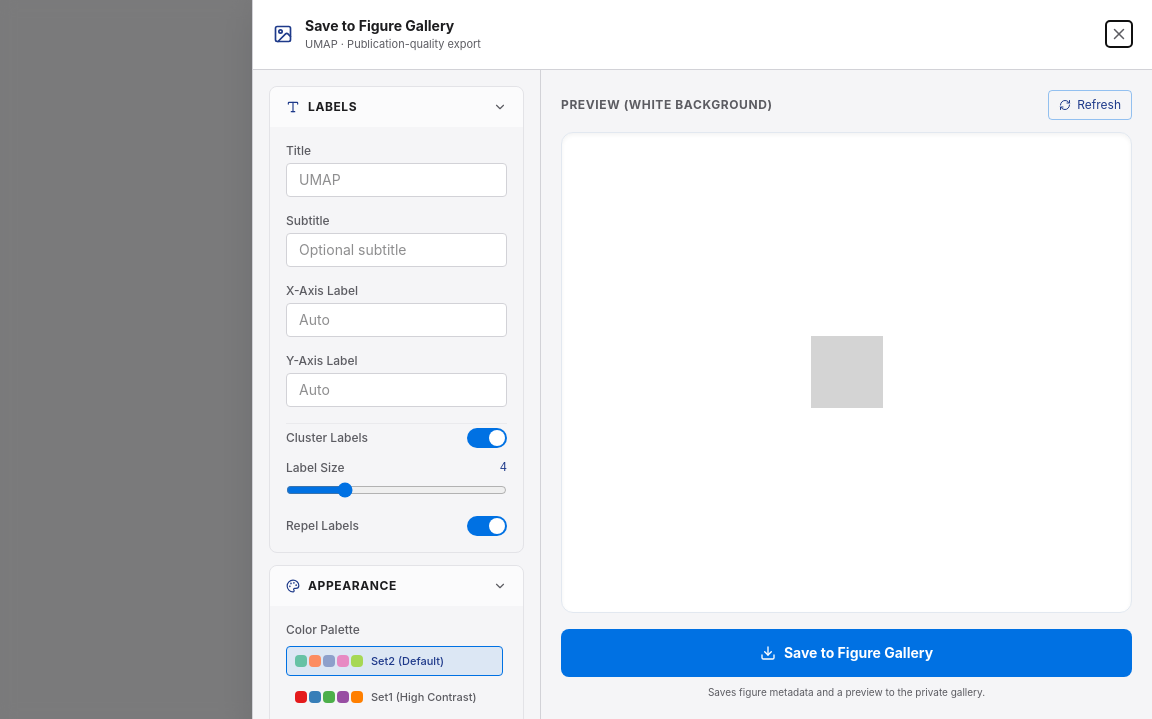
Test: FigureSavePanel component › stores and displays only the filename when the export response contains a full path
Step 1. Click the button "Save to Figure Gallery" → click(846, 653), box [561,629,1132,677]
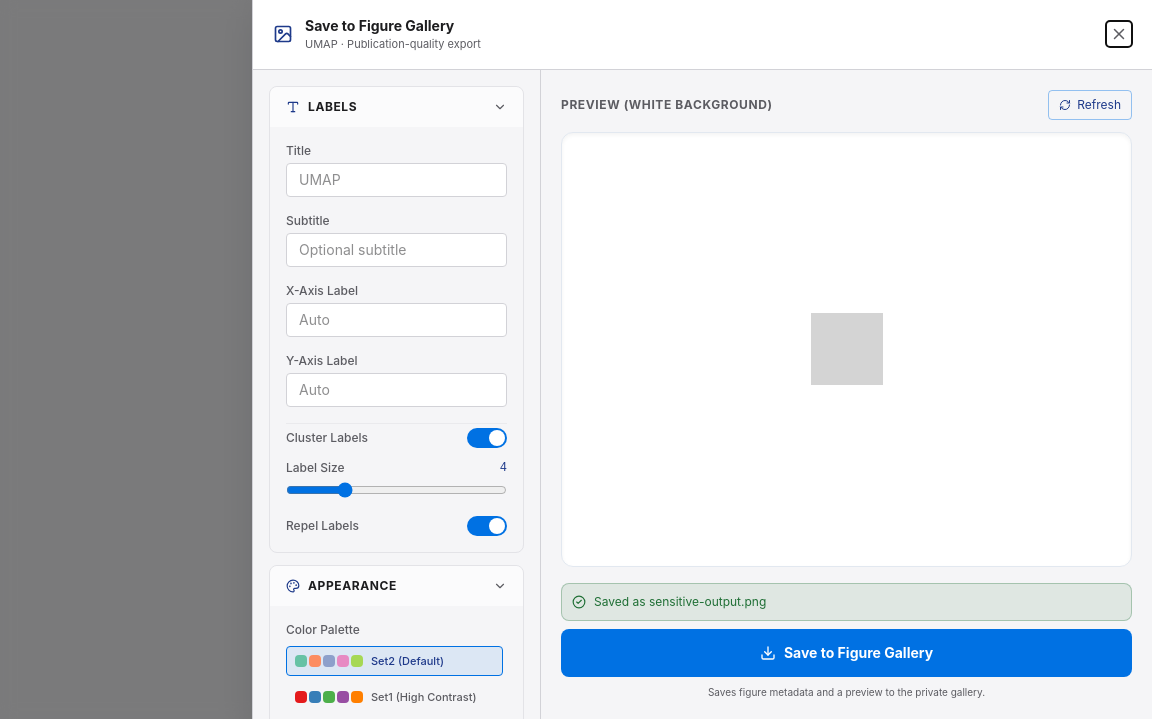
Result: the text "Saved as sensitive-output.png" is shown at [594,594,766,610]
